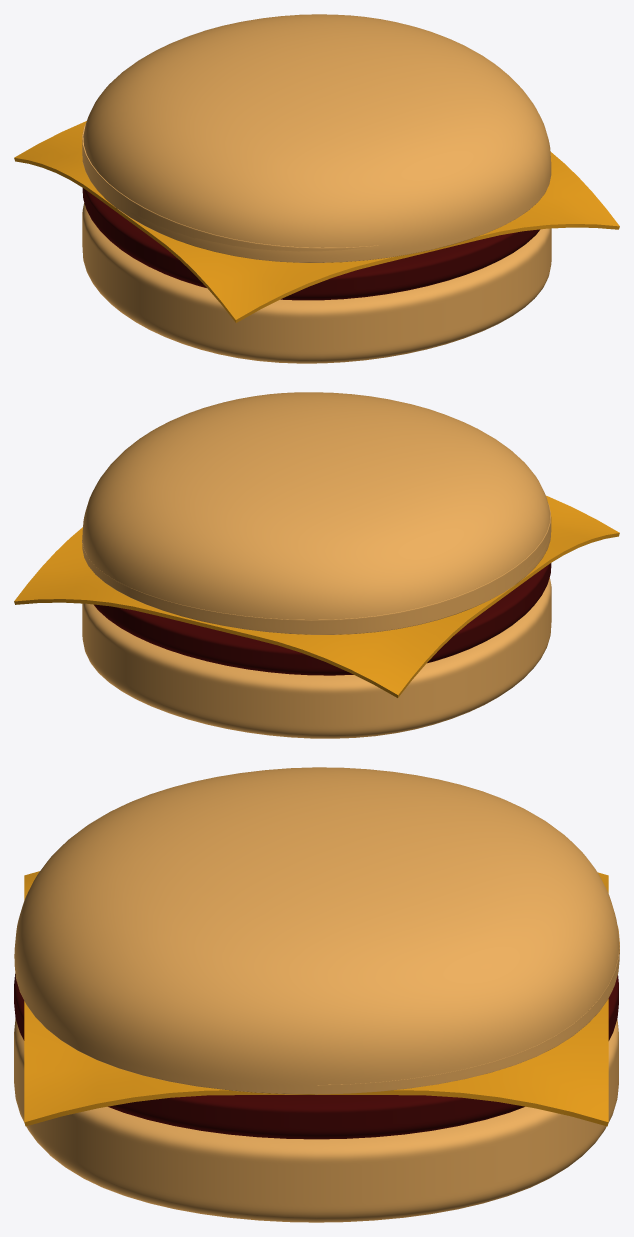
Rendered from hamburger.glb.
3 renders of one model, top to bottom at view 1: azimuth 30°, elevation 25°; view 2: azimuth 150°, elevation 25°; view 3: azimuth 270°, elevation 25°, orthographic. The views are drawn at different scales.
Parts seen in each view (by area): view 1: Cube.002, Cube, Plane, Cube.001; view 2: Cube.002, Cube, Plane, Cube.001; view 3: Cube.002, Cube, Plane, Cube.001.
Boxes of the visible parts, x1,y1,x2,y2 form: Cube.002: (82, 14, 551, 262); Cube: (82, 203, 551, 363); Plane: (14, 121, 619, 322); Cube.001: (82, 188, 540, 300); Cube.002: (82, 392, 551, 634); Cube: (82, 577, 551, 738); Plane: (14, 495, 619, 697); Cube.001: (94, 563, 551, 675); Cube.002: (14, 767, 619, 1094); Cube: (14, 1018, 618, 1222); Plane: (24, 871, 608, 1126); Cube.001: (14, 974, 618, 1139).
Bounding box in the file's own units: 9.04 × 4.7 × 9.05.
